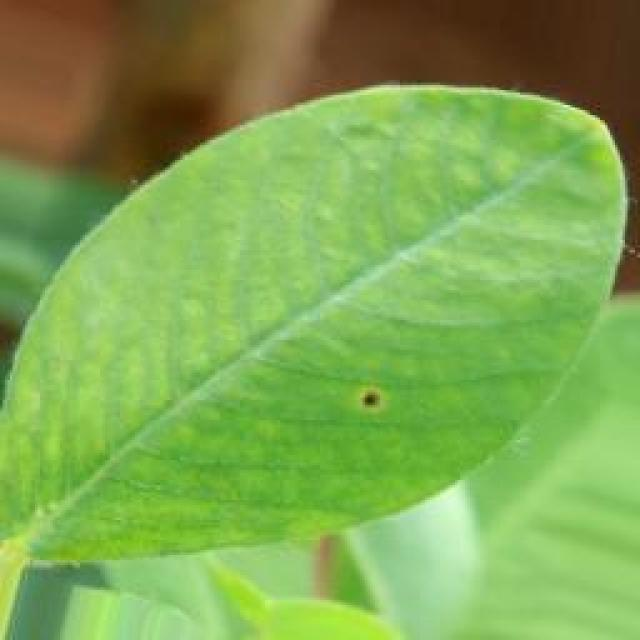Sigatoka: (331, 347, 408, 441)
